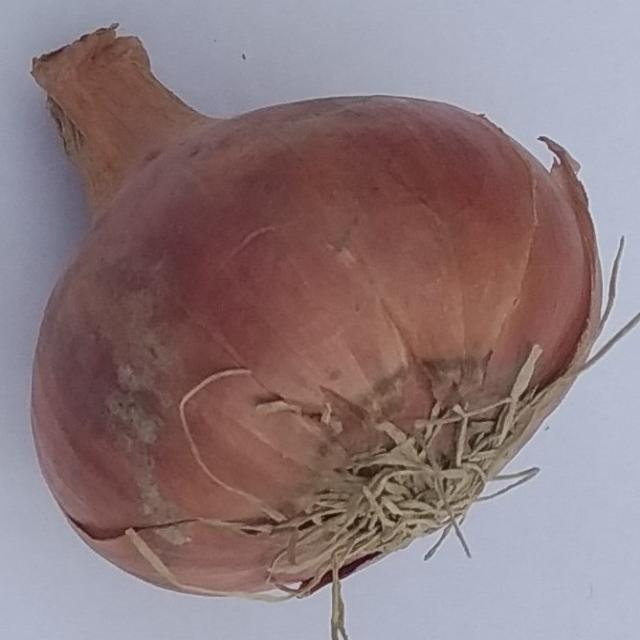onion: (32, 23, 633, 620)
